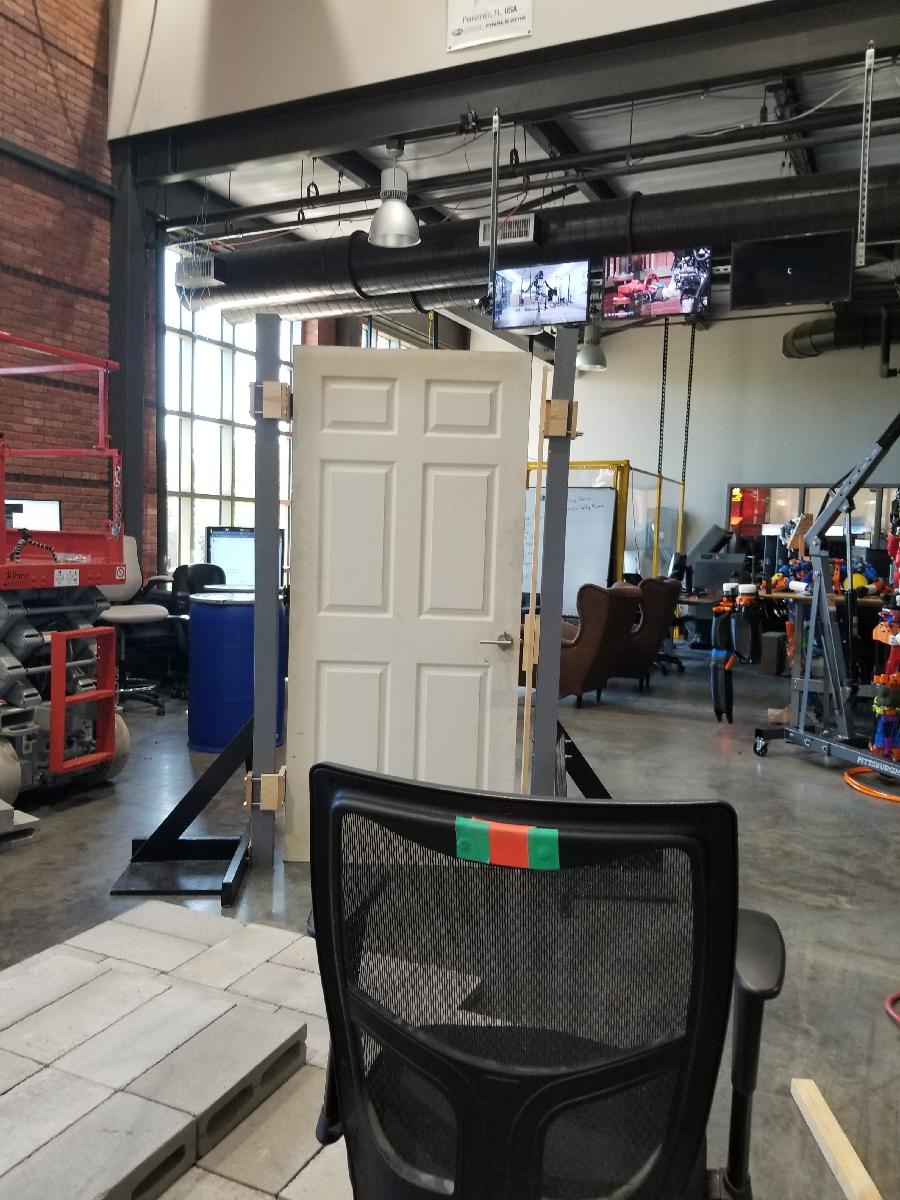door: (282, 341, 534, 873)
doorHandle: (481, 631, 515, 655)
